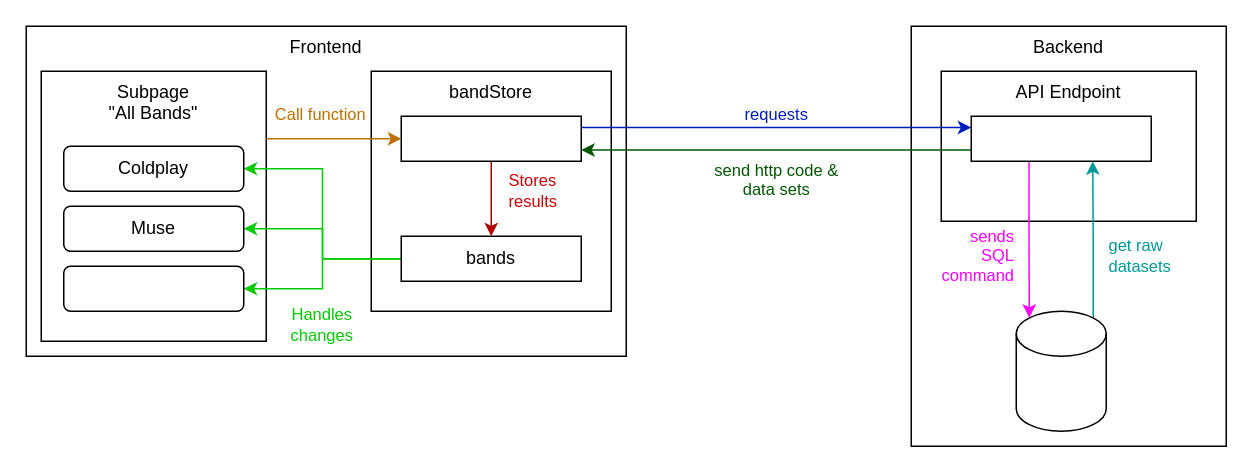
Image size: 1253x473. Some labels were removed from this diagram. The centre of each missing label's shape, as x and y in pixels:
/bands: point 1060,138
DB: point 1060,370
getBands(): point 490,138
Radiohead: point 153,288
